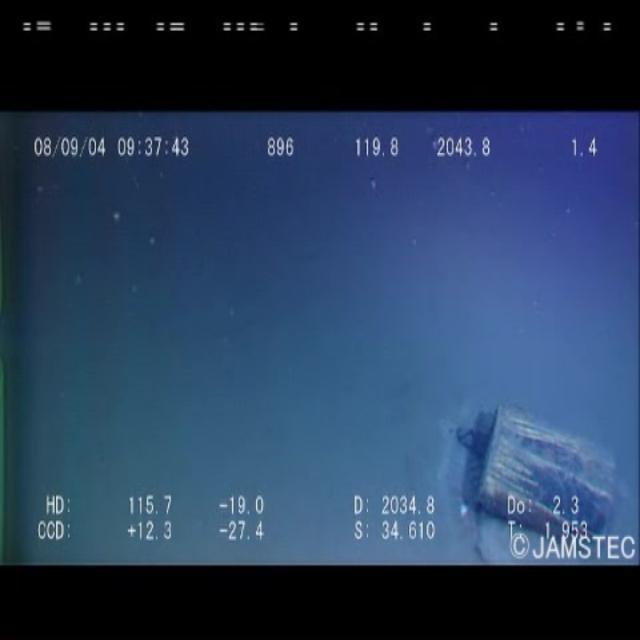Metal: (455, 368, 621, 556)
